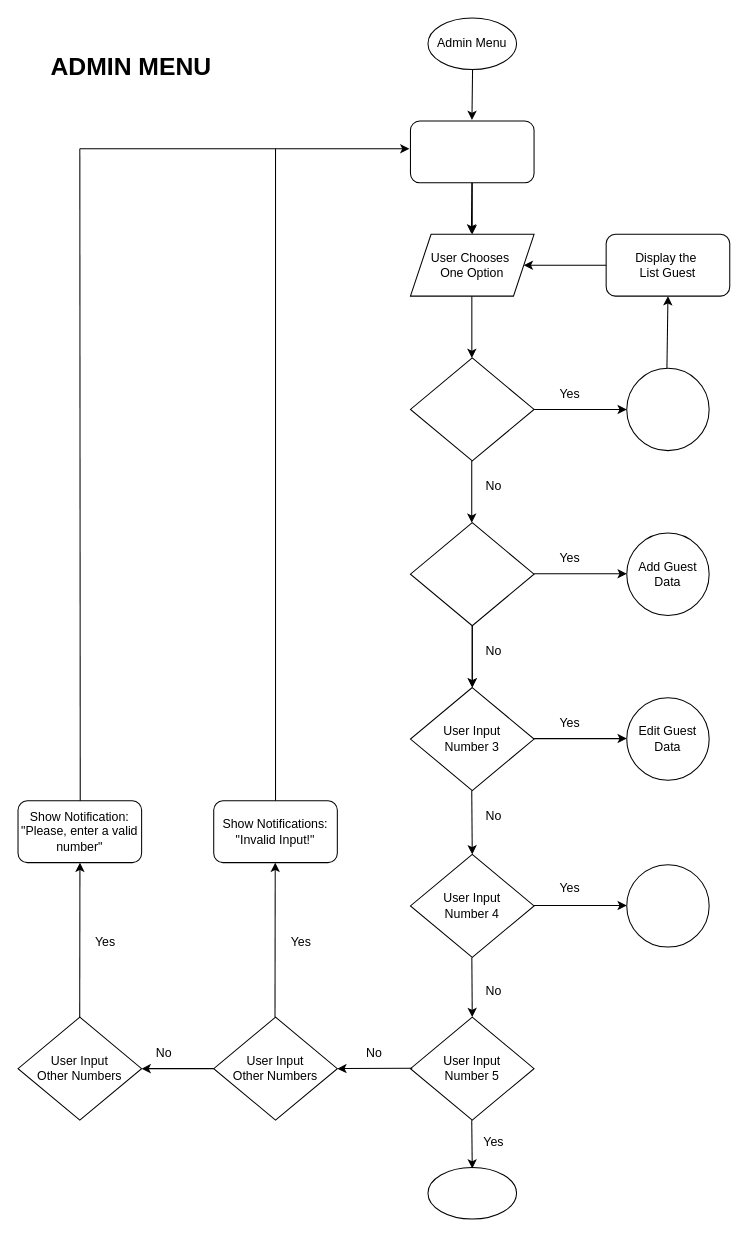
Some shapes in this 748 by 1237 pixel diagram are drawn without their labels. Each missing label, with the box of its shape:
Delete Guest Data: (626, 864, 709, 947)
Display Admin Menu Options: (409, 120, 534, 183)
END: (427, 1166, 517, 1219)
Show List Guest: (626, 367, 709, 451)
User Input Number 1: (409, 357, 534, 461)
User Input Number 2: (409, 522, 534, 626)
